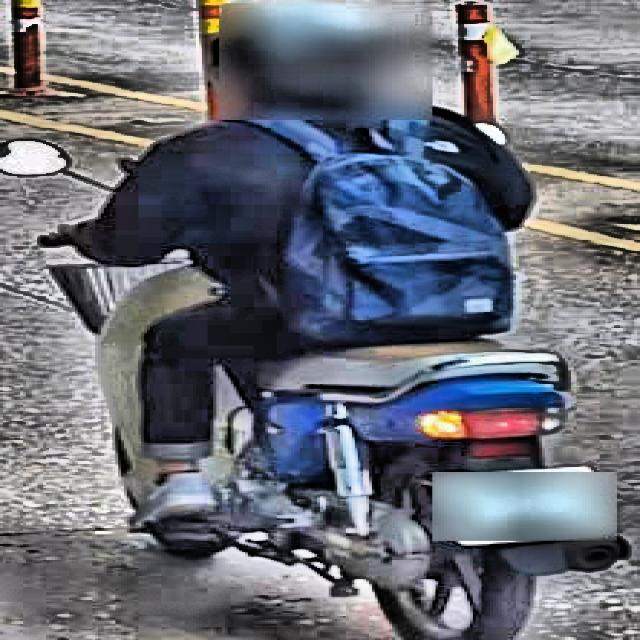motorcycle: (0, 132, 637, 638)
